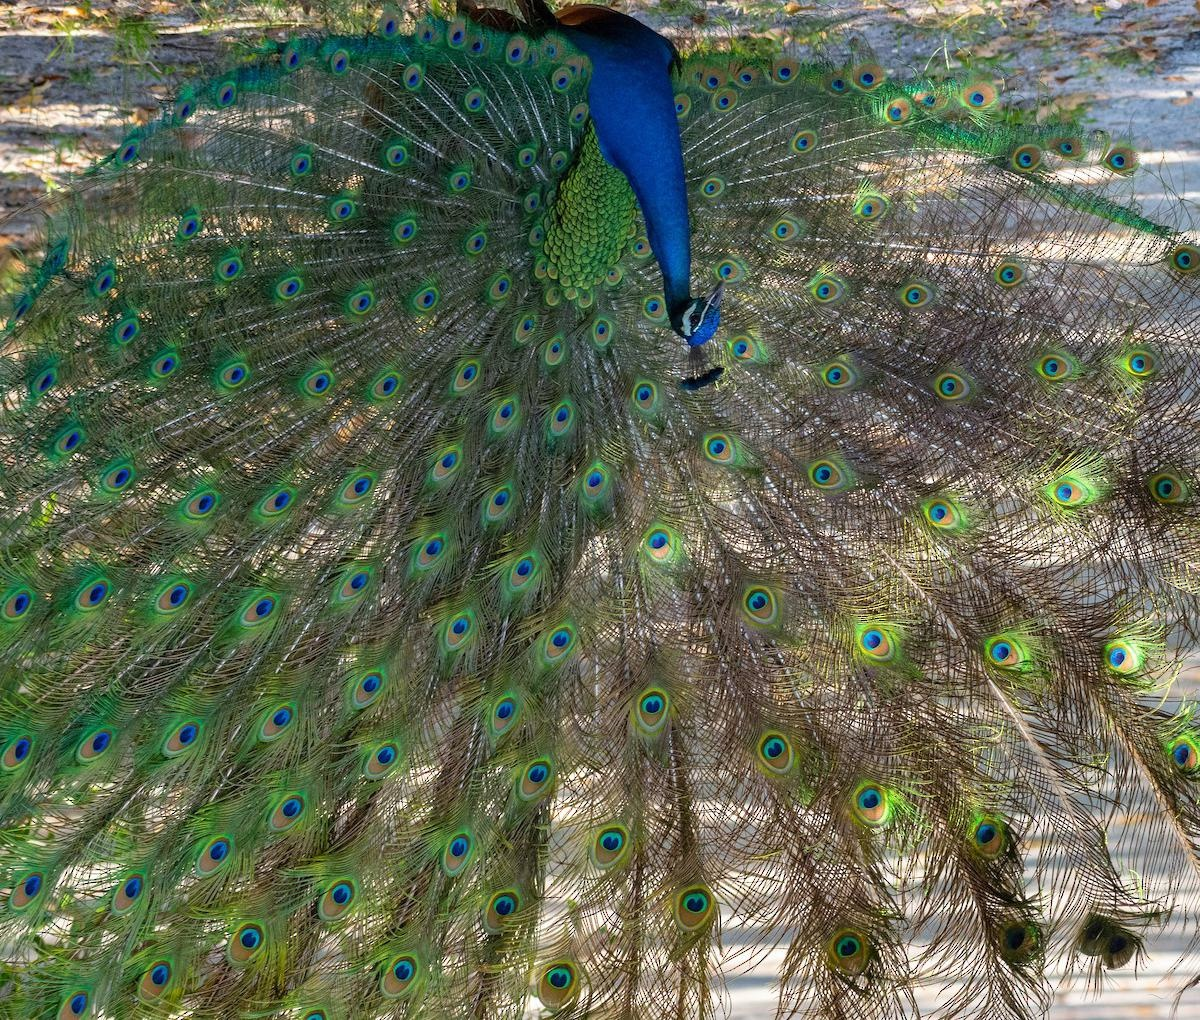peacock: (106, 33, 1070, 807)
